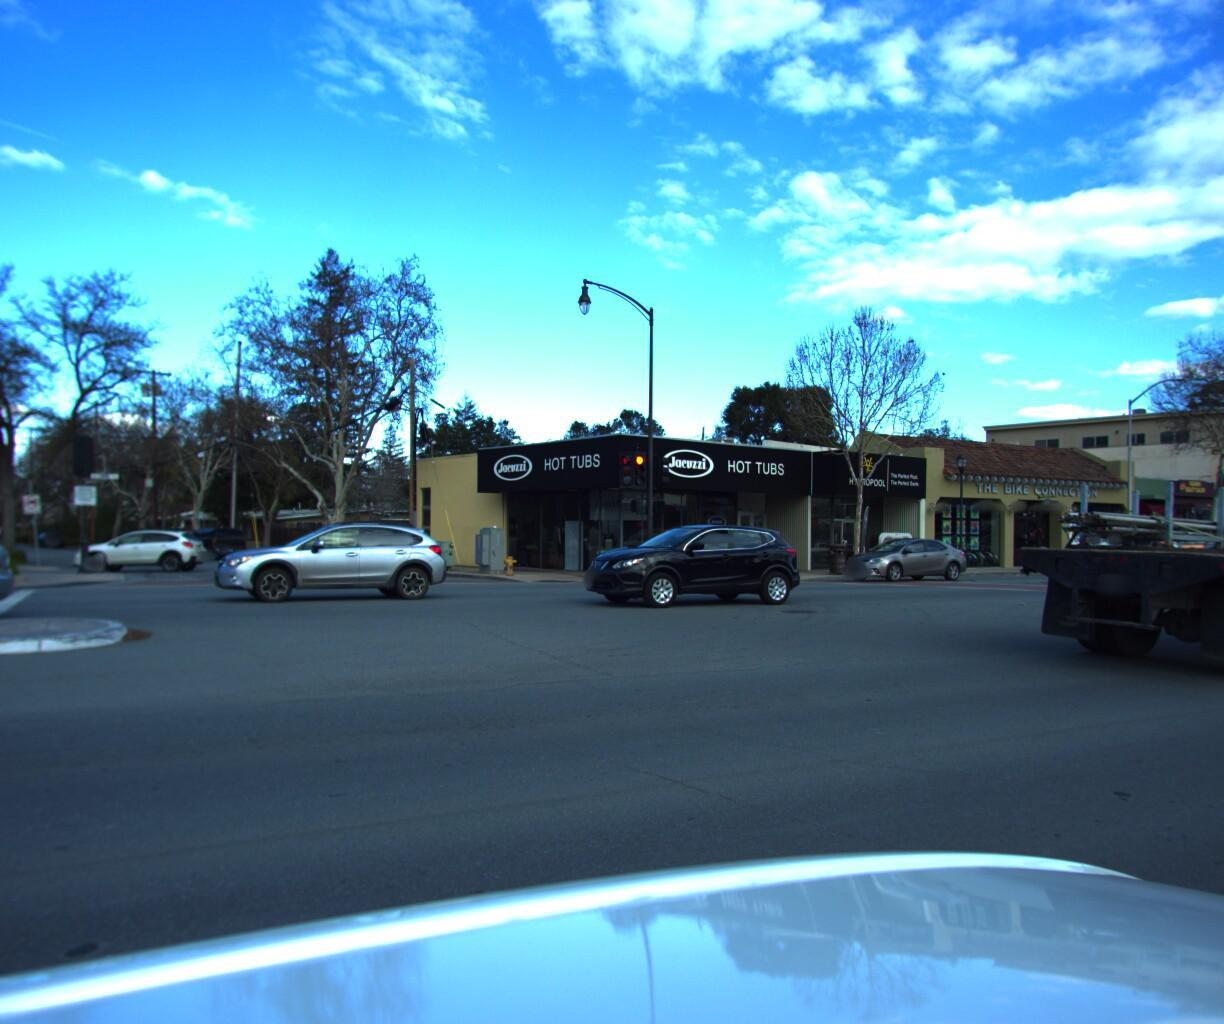car: (572, 513, 807, 615), (201, 514, 455, 605), (1074, 500, 1212, 570), (68, 523, 212, 571), (833, 535, 973, 581), (0, 498, 18, 651), (183, 528, 249, 562), (149, 526, 209, 558), (32, 526, 71, 549)
truck: (977, 380, 1224, 703)
